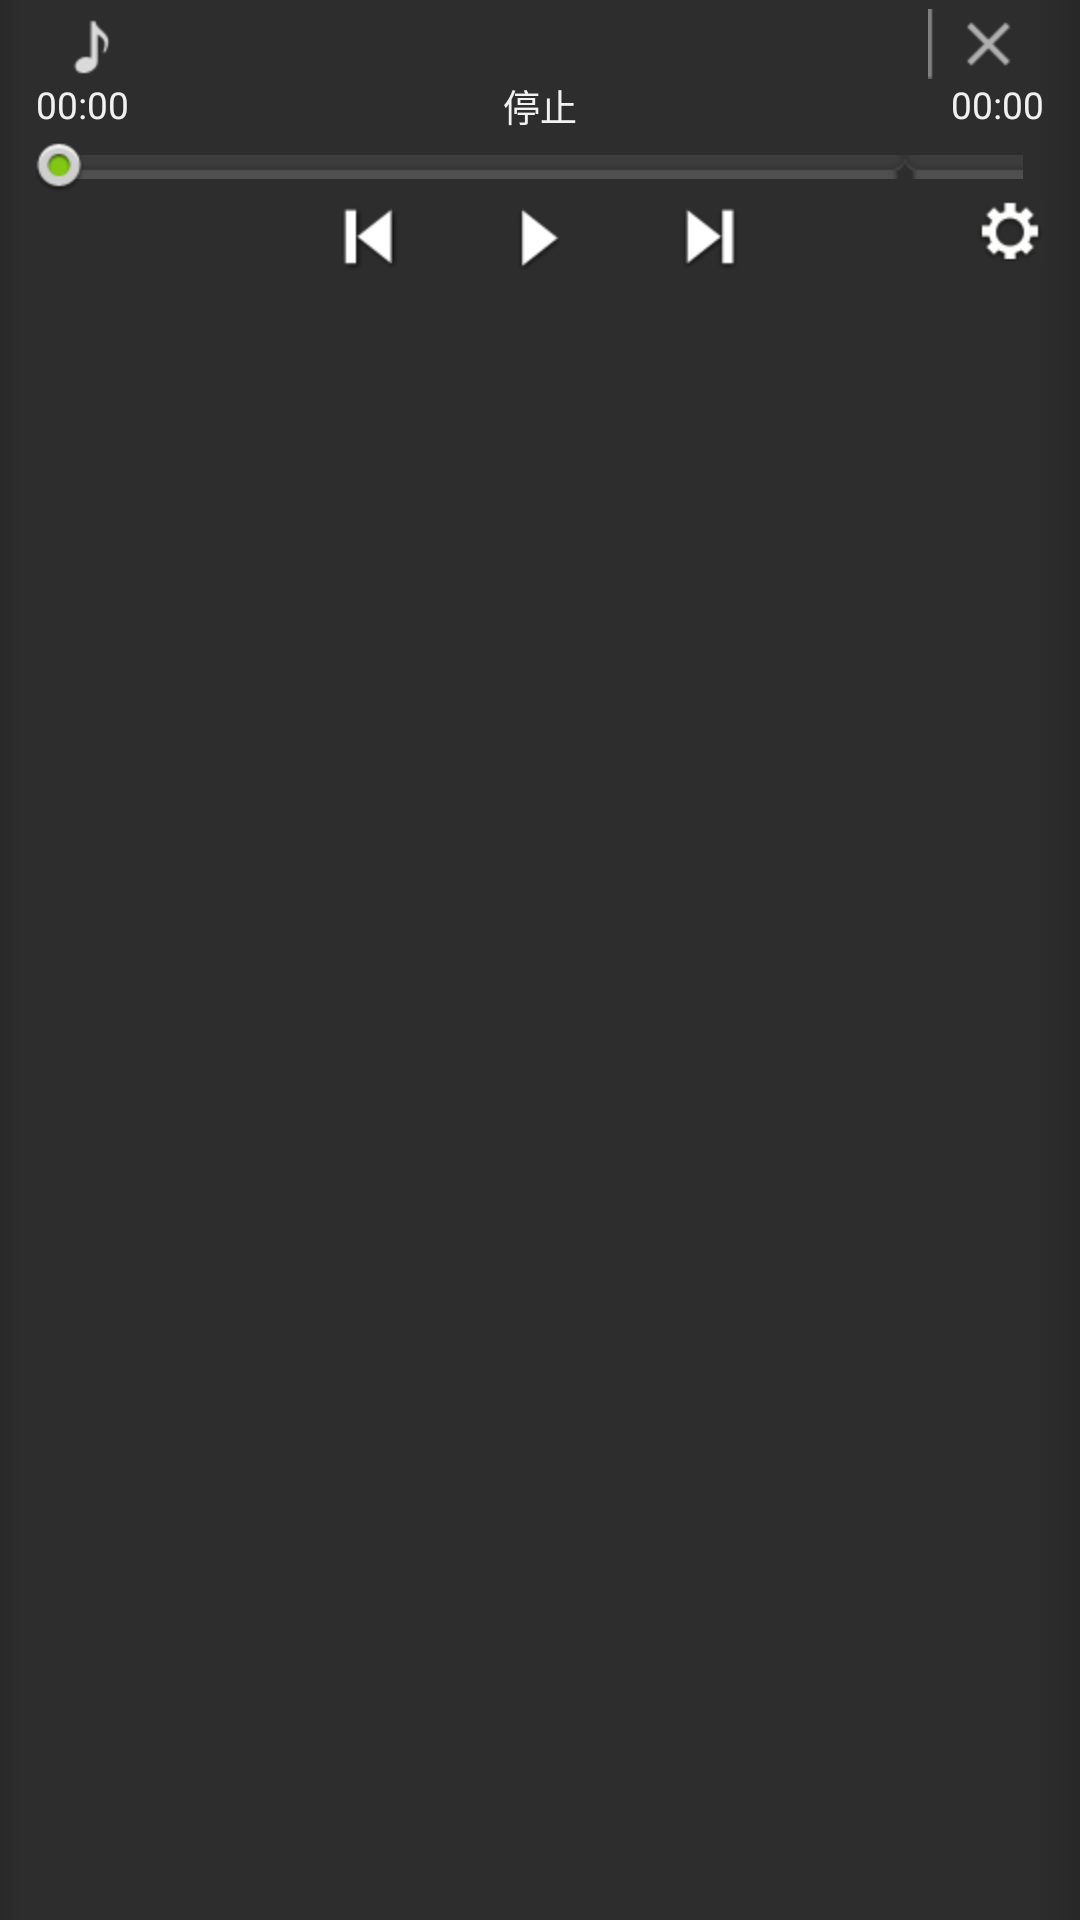

Icon bounding boxes for this 1080 x 1920 phone screenshot, format (x1, y1, x2, y2):
play last: (344, 209, 392, 264)
play next: (686, 209, 734, 264)
settings: (981, 202, 1039, 260)
